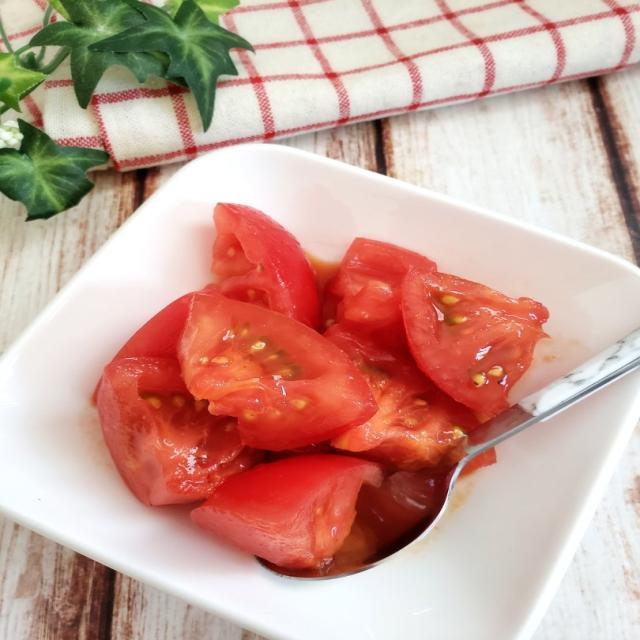Tomato: (159, 283, 381, 452), (92, 350, 289, 522), (179, 454, 391, 577), (394, 262, 554, 418), (205, 195, 319, 348), (330, 364, 478, 478), (326, 233, 456, 354)
